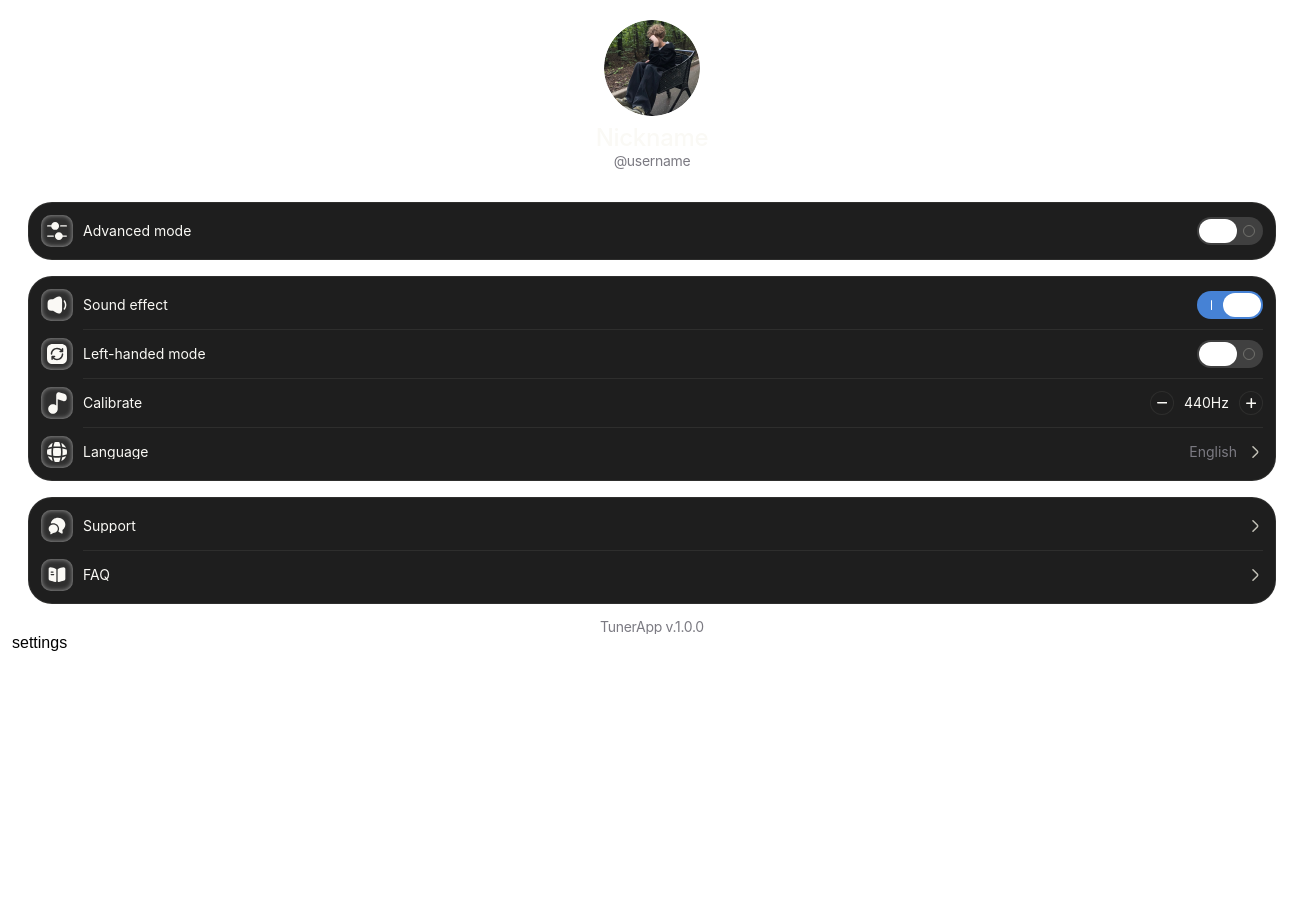
Test: SettingsScreen › navigates to the Language screen when the Language row is tapped, and shows the current language
The image size is (1292, 900).
Expected: the text "English" is shown, [1189,445,1237,459]
Click the text "Language" at (116, 452), box [83,443,148,460]
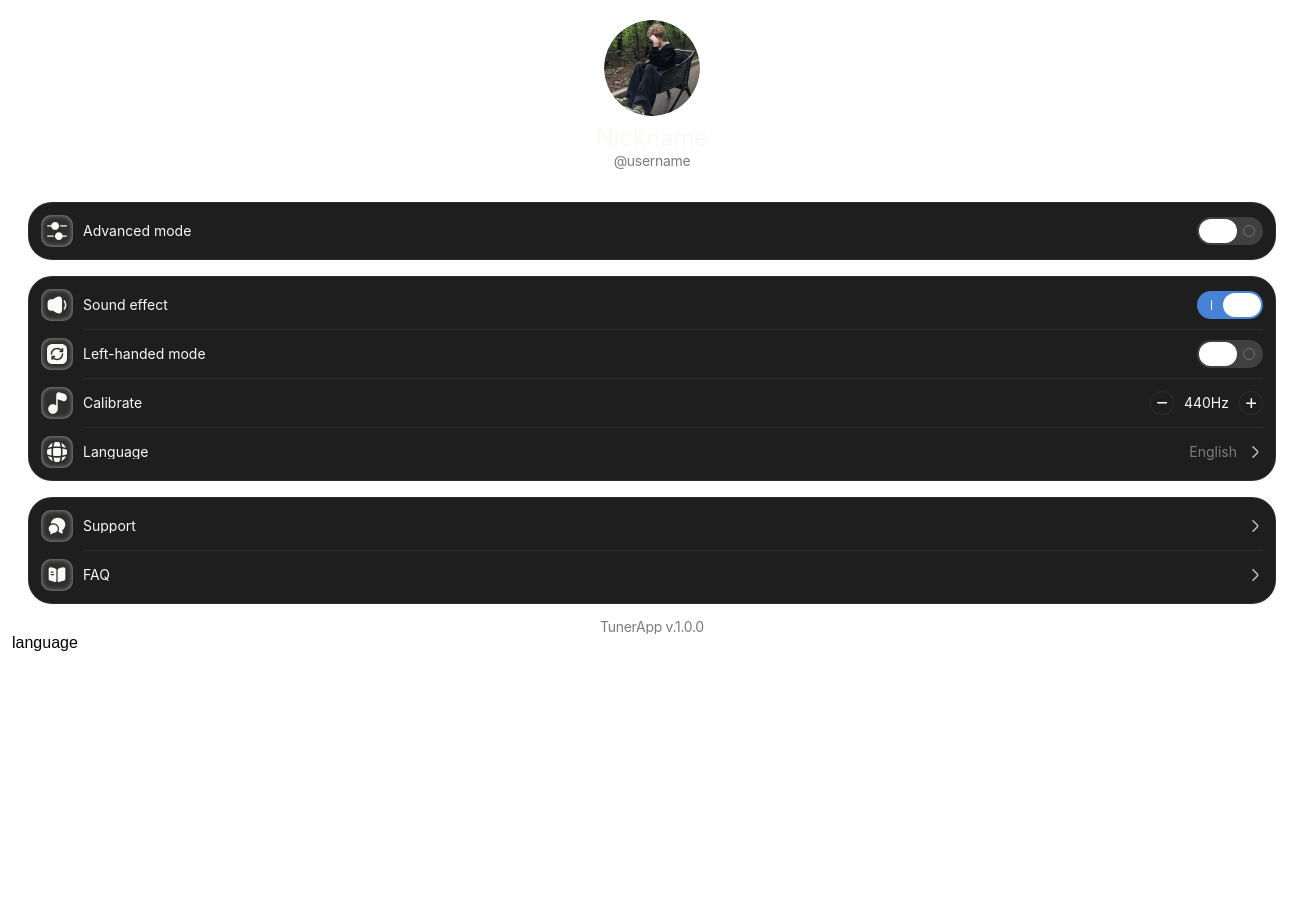
Expected: the text with test id "current-screen" reads "language", [12,634,78,651]
